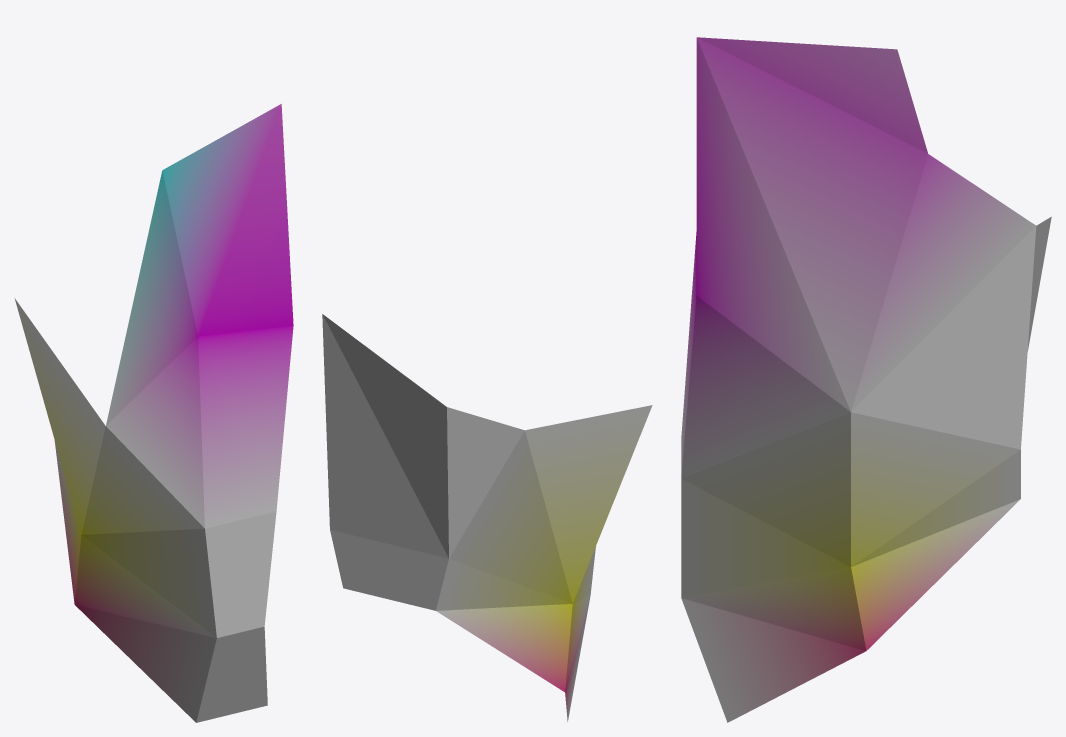
3 renders of one model, left to right at view 1: azimuth 30°, elevation 25°; view 2: azimuth 150°, elevation 25°; view 3: azimuth 270°, elevation 25°, orthographic. The views are drawn at different scales.
Visible parts, largest first — view 1: model_1113; view 2: model_1113; view 3: model_1113.
Part boxes in pixels (<box>): model_1113: <box>14,104,293,722</box>; model_1113: <box>322,314,652,721</box>; model_1113: <box>681,37,1051,722</box>.
Size of the model in its own units: 19 by 50 by 24.
